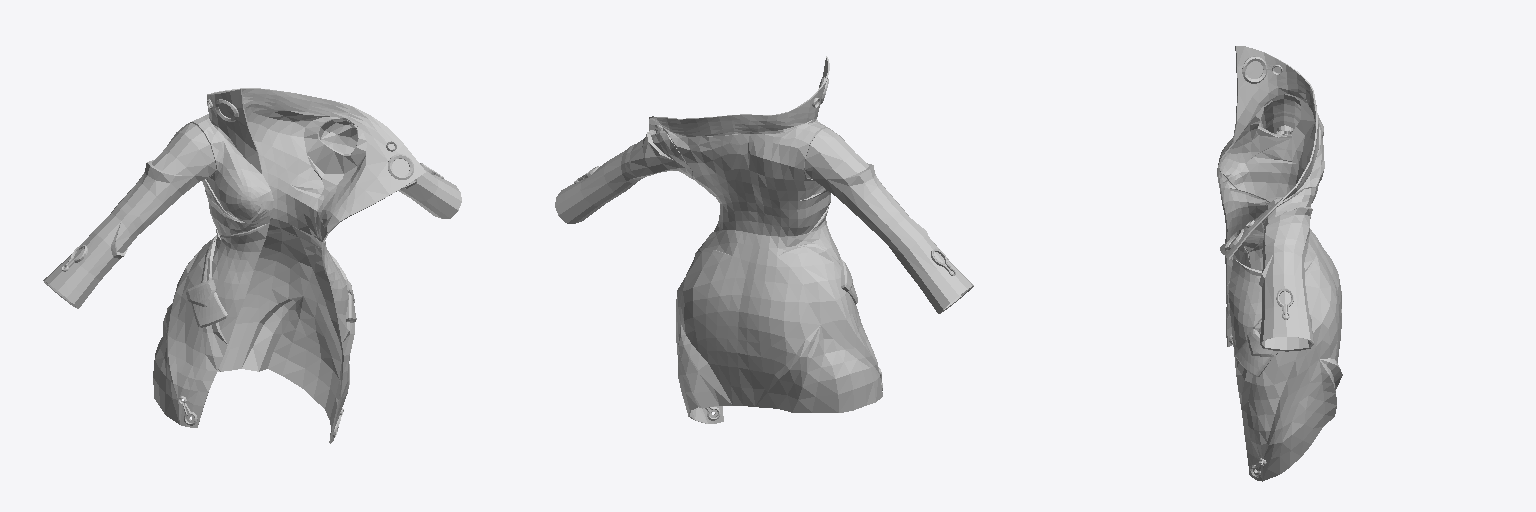
File: cort.obj
3 renders of one model, left to right at view 1: azimuth 30°, elevation 25°; view 2: azimuth 150°, elevation 25°; view 3: azimuth 270°, elevation 25°, orthographic.
Parts seen in each view (by area): view 1: Jacket_R_mtr_G11_V100.052, Jacket_mtr_G11_V100.051; view 2: Jacket_mtr_G11_V100.051, Jacket_R_mtr_G11_V100.052; view 3: Jacket_mtr_G11_V100.051, Jacket_R_mtr_G11_V100.052.
Boxes of the visible parts, x1=… form: Jacket_R_mtr_G11_V100.052: x1=229, y1=88, x2=425, y2=443; Jacket_mtr_G11_V100.051: x1=43, y1=89, x2=461, y2=437; Jacket_mtr_G11_V100.051: x1=555, y1=56, x2=973, y2=420; Jacket_R_mtr_G11_V100.052: x1=649, y1=114, x2=757, y2=423; Jacket_mtr_G11_V100.051: x1=1217, y1=46, x2=1341, y2=477; Jacket_R_mtr_G11_V100.052: x1=1220, y1=102, x2=1342, y2=481.
Bounding box in the file's own units: 0.8207 × 0.7429 × 0.2201.